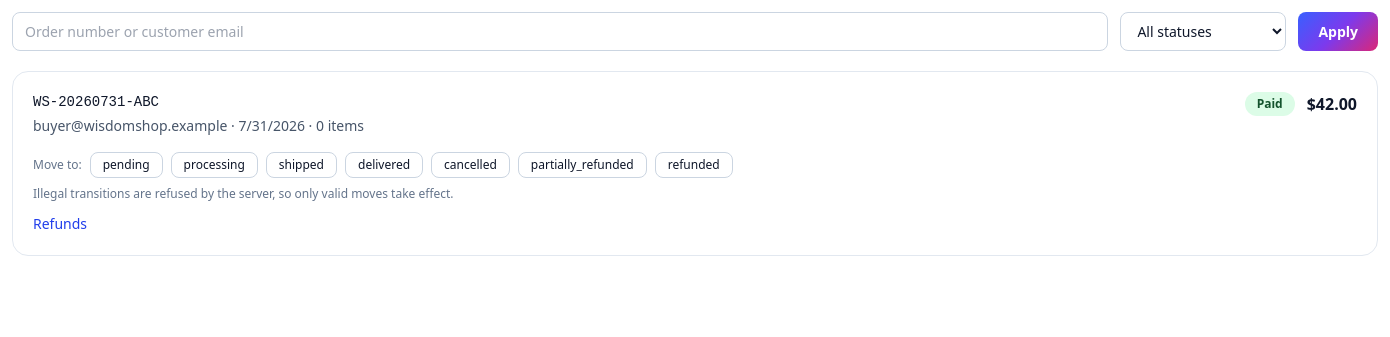
AdminOrderList › shows the server's own explanation when a transition is refused
This screenshot has width=1390, height=337.
Click the button "processing" at (214, 165), box [170,152,258,178]
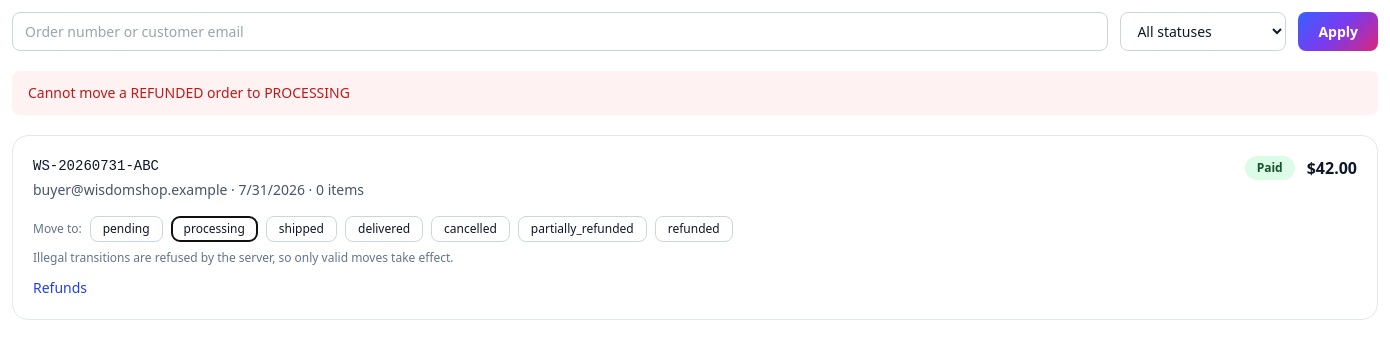
Expected: the message reads "Cannot move a REFUNDED order to PROCESSING", [28,83,350,102]
